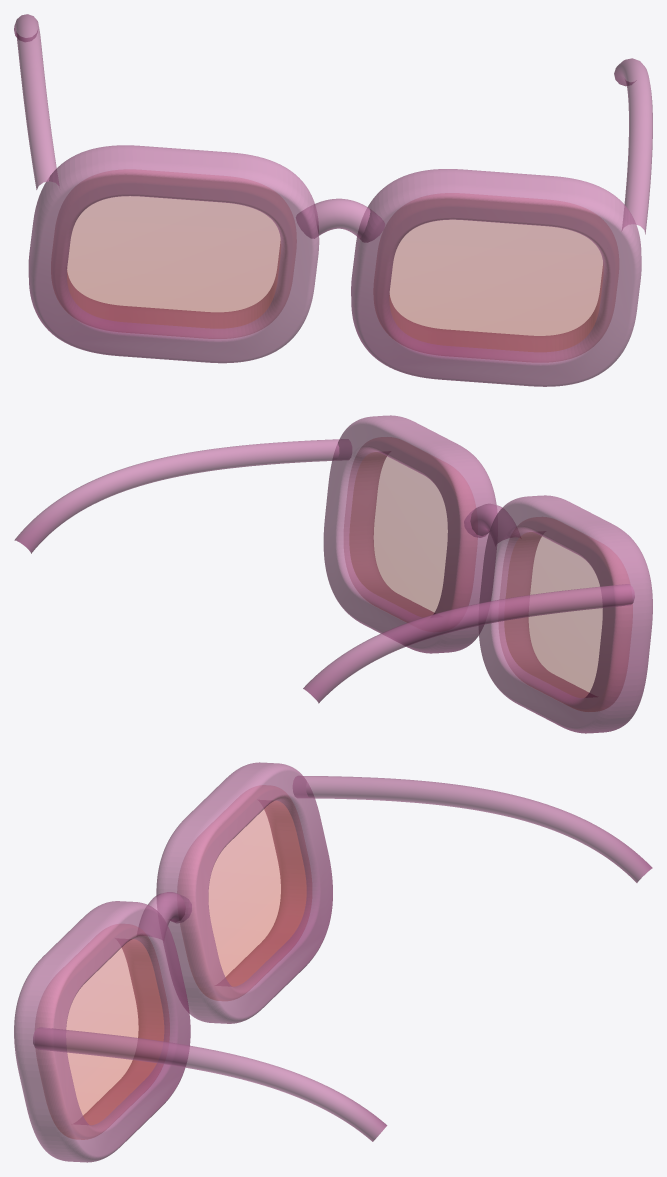
Rendered from tinted-glasses.glb.
The picture shows the model from 3 angles, top to bottom: view 1: azimuth 30°, elevation 25°; view 2: azimuth 150°, elevation 25°; view 3: azimuth 270°, elevation 25°; orthographic projection. The views are drawn at different scales.
Visible parts, largest first — view 1: frame_1, frame_2, lens_2, lens_1, temple_2, temple_1, bridge; view 2: frame_2, frame_1, lens_2, lens_1, temple_2, temple_1, bridge; view 3: frame_1, frame_2, lens_1, lens_2, temple_1, temple_2, bridge.
Boxes of the visible parts, x1,y1,x2,y2 form: frame_1: (28, 145, 319, 363); frame_2: (351, 169, 641, 386); lens_2: (389, 219, 603, 352); lens_1: (67, 196, 281, 328); temple_2: (614, 58, 652, 234); temple_1: (14, 14, 58, 189); bridge: (296, 198, 384, 242); frame_2: (323, 415, 496, 653); frame_1: (478, 495, 652, 733); lens_2: (349, 452, 447, 617); lens_1: (504, 532, 602, 698); temple_2: (14, 439, 351, 553); temple_1: (303, 584, 634, 703); bridge: (464, 503, 516, 545); frame_1: (156, 762, 332, 1023); frame_2: (14, 901, 190, 1162); lens_1: (208, 800, 306, 986); lens_2: (66, 939, 164, 1125); temple_1: (293, 776, 652, 882); temple_2: (33, 1028, 387, 1141); bridge: (139, 892, 191, 940).
Bounding box in the file's own units: 0.9956 × 0.3639 × 0.9065.
